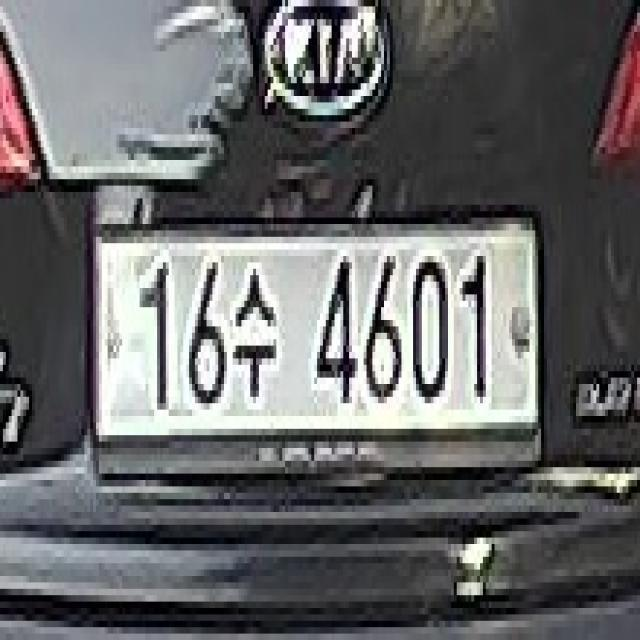plat: (86, 198, 544, 479)
